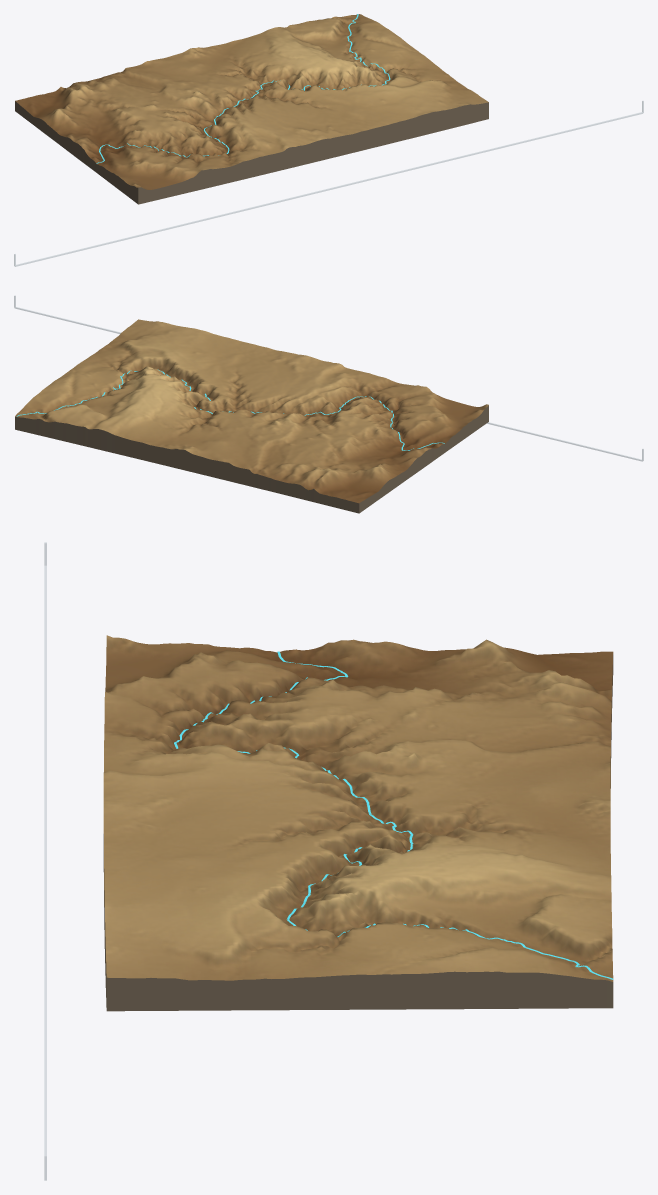
The model's file is terrain3d-grand-canyon.glb.
3 renders of one model, top to bottom at view 1: azimuth 30°, elevation 25°; view 2: azimuth 150°, elevation 25°; view 3: azimuth 270°, elevation 25°, orthographic. The views are drawn at different scales.
Parts seen in each view (by area): view 1: Measured elevation surface, Opaque geographic crop sides, Straightened total-length reference, Mapped waterway centerlines (display-width ribbon); view 2: Measured elevation surface, Opaque geographic crop sides, Straightened total-length reference, Mapped waterway centerlines (display-width ribbon); view 3: Measured elevation surface, Opaque geographic crop sides, Straightened total-length reference, Mapped waterway centerlines (display-width ribbon).
Boxes of the visible parts, bbox=[...] form: Measured elevation surface: bbox=[15, 14, 488, 189]; Opaque geographic crop sides: bbox=[15, 101, 488, 204]; Straightened total-length reference: bbox=[15, 112, 643, 266]; Mapped waterway centerlines (display-width ribbon): bbox=[96, 14, 390, 163]; Measured elevation surface: bbox=[15, 319, 488, 503]; Opaque geographic crop sides: bbox=[15, 405, 488, 513]; Straightened total-length reference: bbox=[14, 307, 642, 461]; Mapped waterway centerlines (display-width ribbon): bbox=[16, 369, 444, 450]; Measured elevation surface: bbox=[103, 635, 613, 981]; Opaque geographic crop sides: bbox=[103, 655, 613, 1011]; Straightened total-length reference: bbox=[44, 565, 46, 1180]; Mapped waterway centerlines (display-width ribbon): bbox=[174, 651, 613, 979].
Bounding box in the file's own units: 446892 × 29984 × 175140.
Materials: 4 (1 with a texture image).
